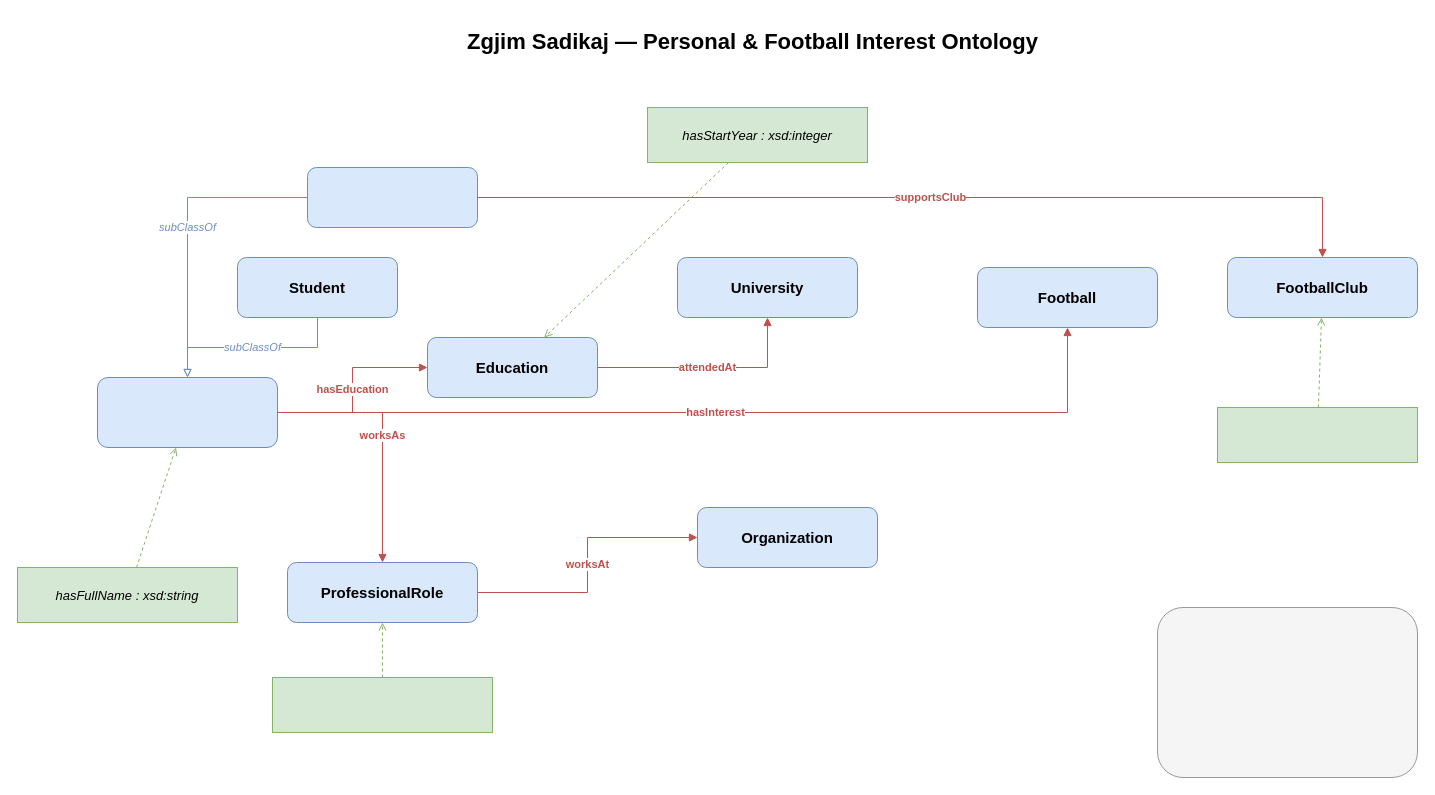
Some shapes in this 1435 by 795 pixel diagram are drawn without their labels. Each missing label, with the centre of its shape:
"FootballFan" belongs at [392,197].
"hasJobTitle : xsd:string" belongs at [382,704].
"hasName : xsd:string" belongs at [1317,434].
"Legend ■ Class → Object Property ▷ subClassOf ■ Data Property (literal)" belongs at [1287,692].
"Person" belongs at [187,412].
